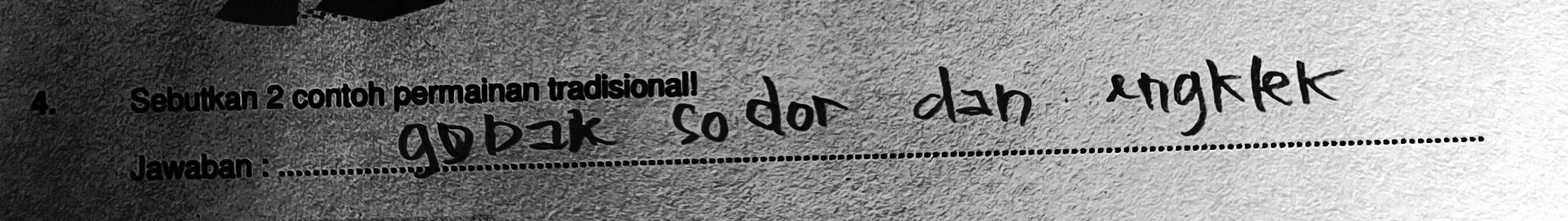jawaban: (1102, 41, 1356, 144), (390, 101, 619, 182), (666, 62, 856, 153), (909, 62, 1041, 138)
